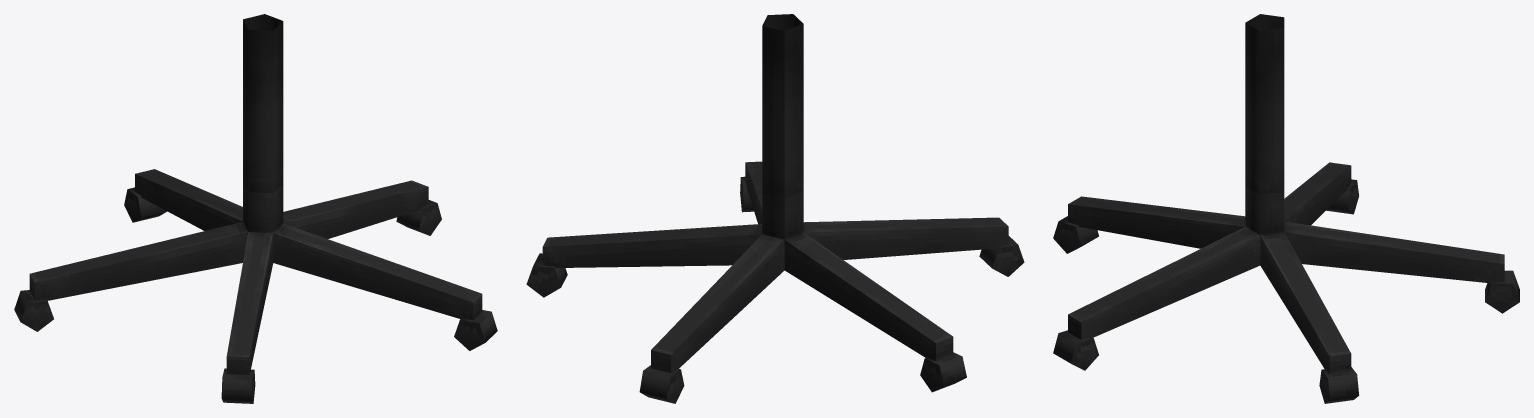
Rendered from ChairLegs.glb.
3 views of the same model, side by side, from view 1: azimuth 30°, elevation 25°; view 2: azimuth 150°, elevation 25°; view 3: azimuth 270°, elevation 25° (orthographic). The views are drawn at different scales.
Visible parts, largest first — view 1: chair legs; view 2: chair legs; view 3: chair legs.
Part boxes in pixels (box(x1,y1,x2,y2)): chair legs: box(14, 14, 497, 403); chair legs: box(526, 14, 1024, 403); chair legs: box(1053, 14, 1519, 403).
Size of the model in its own units: 0.6729 by 0.4305 by 0.6399.
Materials: 1 (1 with a texture image).
